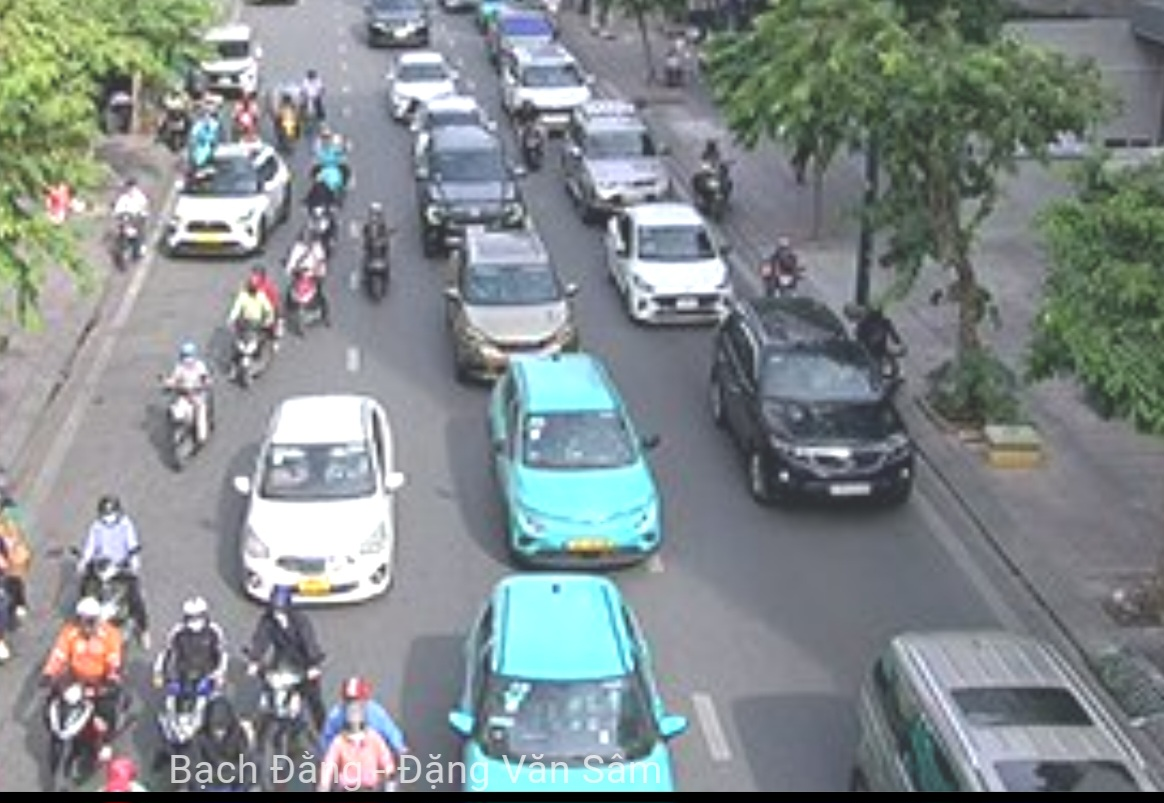car: (706, 290, 921, 523), (462, 585, 678, 803), (488, 362, 665, 573), (234, 389, 404, 607), (441, 225, 580, 368), (162, 139, 299, 267), (606, 207, 736, 324), (411, 126, 527, 236), (558, 104, 673, 208), (496, 47, 596, 130), (385, 50, 459, 123)
